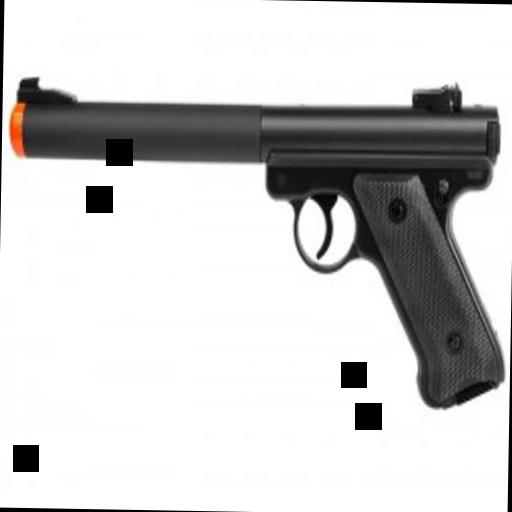Handgun: (6, 70, 512, 409)
